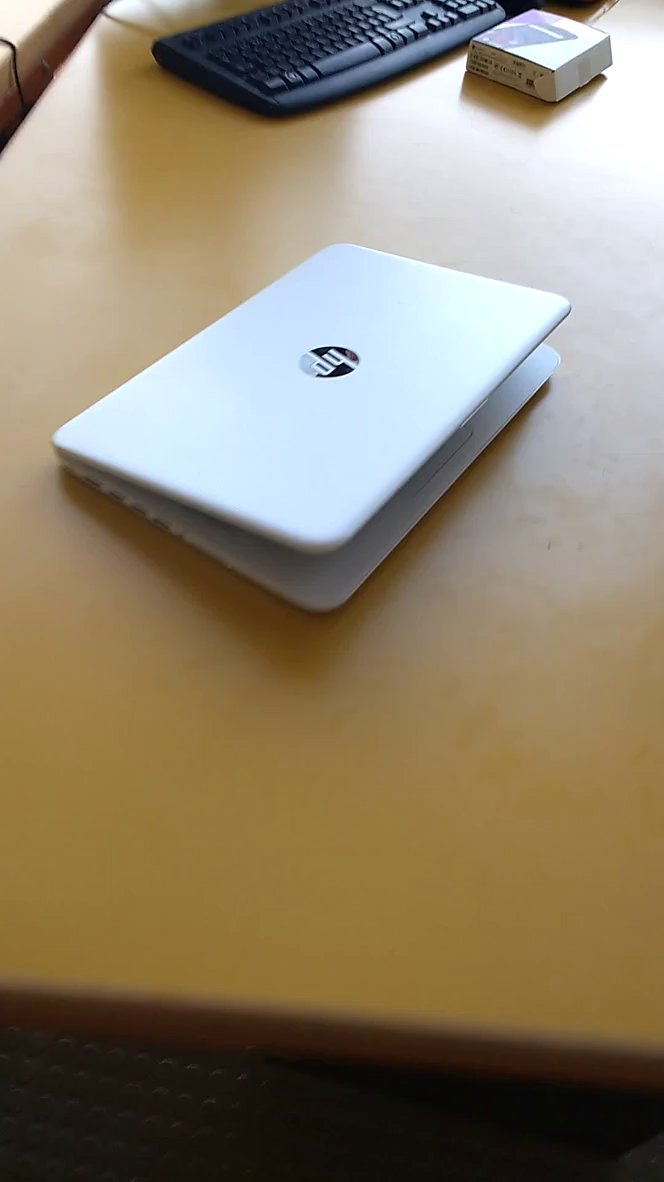laptop: (35, 196, 593, 685)
